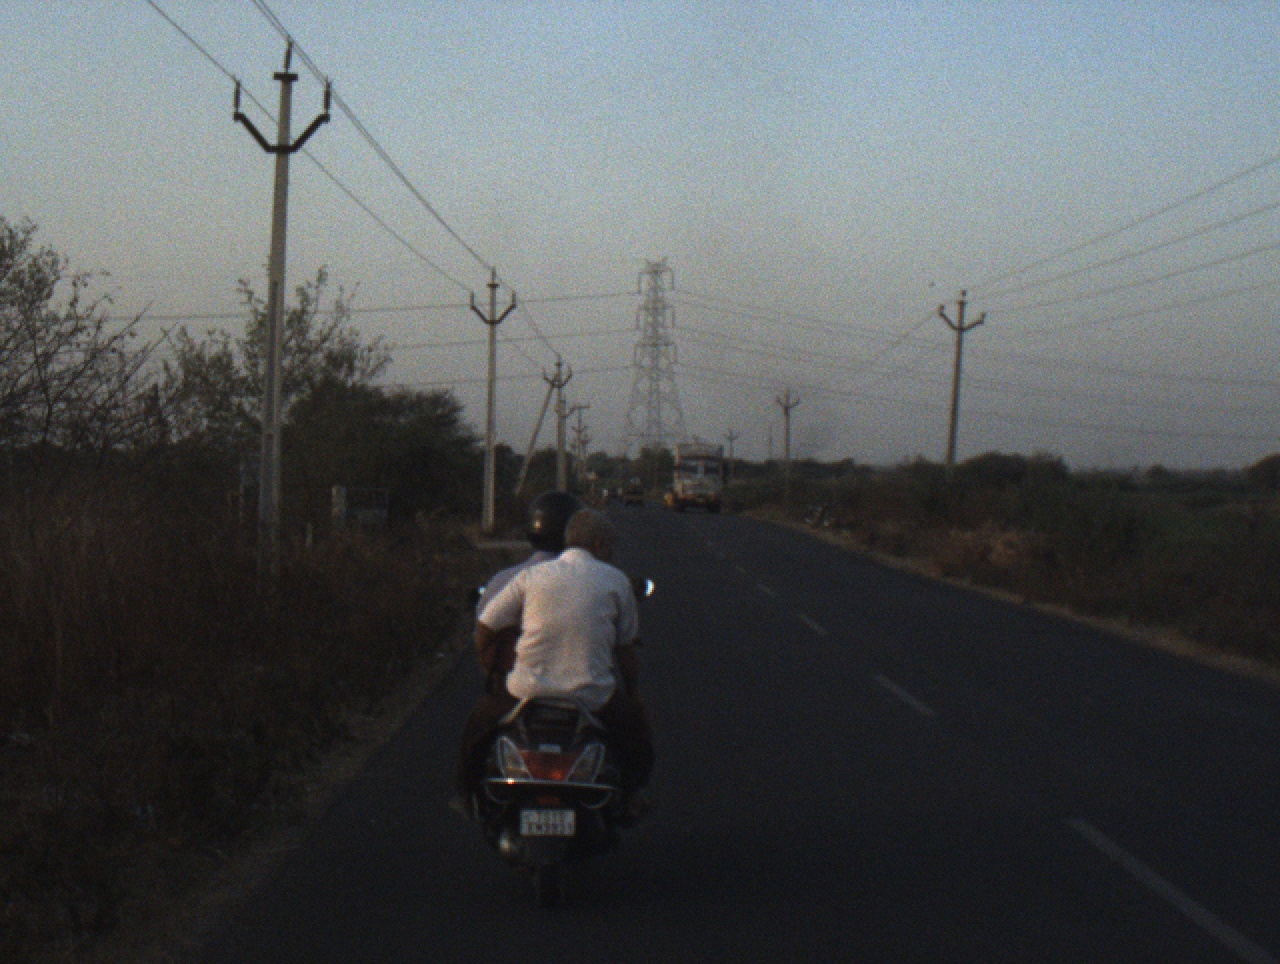autorickshaw: (623, 474, 648, 508), (663, 483, 678, 512)
bicycle: (604, 495, 610, 509)
motorcycle: (469, 570, 669, 916)
rider: (456, 508, 657, 853), (468, 486, 583, 616), (600, 486, 611, 501)
truck: (670, 436, 732, 516)
